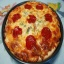pepperoni: (24, 35, 37, 49), (38, 27, 53, 39), (10, 26, 23, 37), (9, 14, 24, 23), (42, 12, 53, 24), (26, 14, 38, 24), (33, 4, 47, 11), (22, 5, 34, 11)
pizza: (3, 1, 61, 62)
